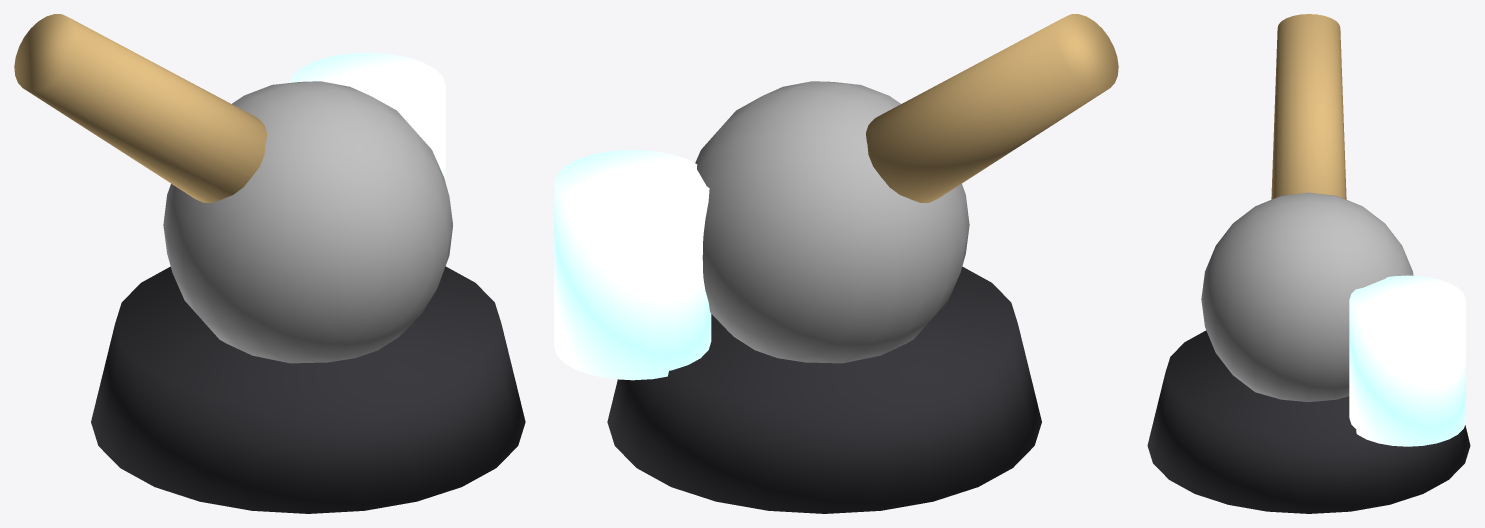
File: projector.glb
3 views of the same model, side by side, from view 1: azimuth 30°, elevation 25°; view 2: azimuth 150°, elevation 25°; view 3: azimuth 270°, elevation 25° (orthographic). The views are drawn at different scales.
Parts seen in each view (by area): view 1: machines/projector; view 2: machines/projector; view 3: machines/projector.
Boxes of the visible parts, x1=… form: machines/projector: x1=14, y1=14, x2=525, y2=513; machines/projector: x1=554, y1=14, x2=1118, y2=513; machines/projector: x1=1147, y1=14, x2=1470, y2=513.
Size of the model in its own units: 0.9163 by 0.8475 by 0.72.
